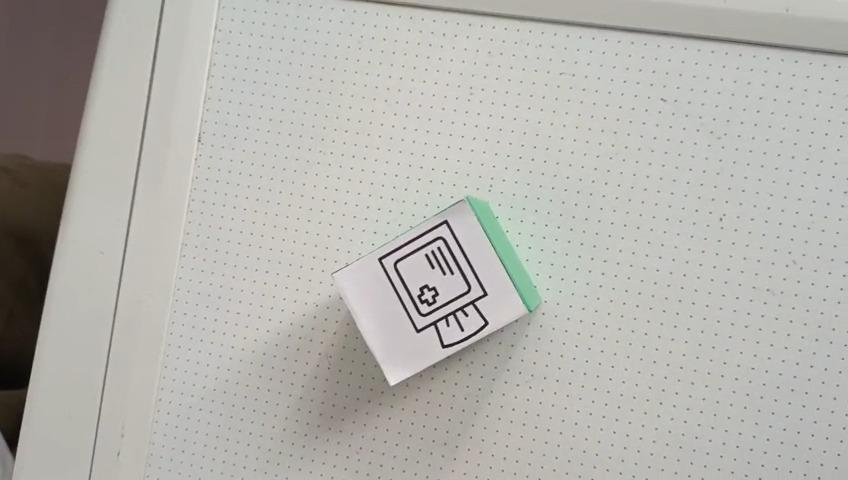Gauze: (330, 194, 542, 387)
